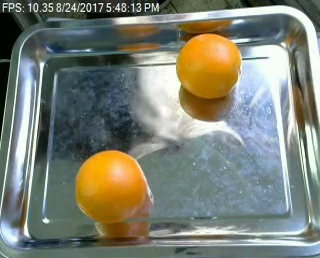Orange: (74, 148, 146, 223), (177, 34, 243, 98)
